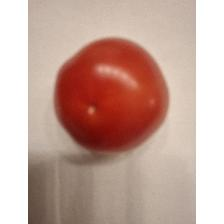Tomate: (50, 33, 173, 157)
